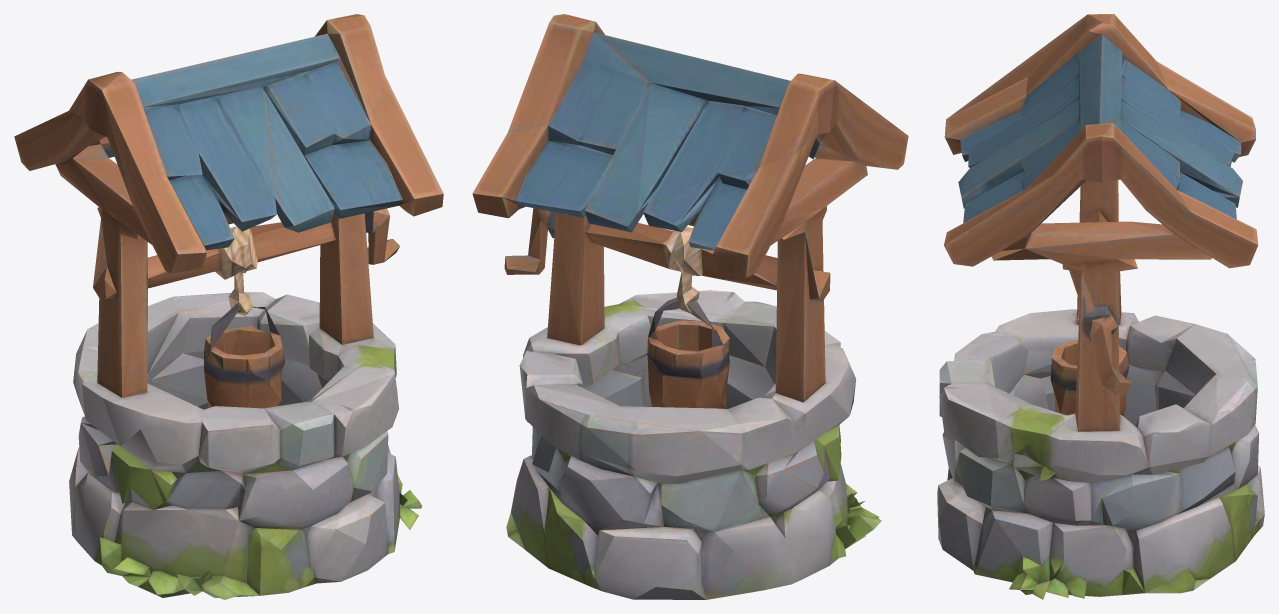
The model's file is deco-well.glb.
3 views of the same model, side by side, from view 1: azimuth 30°, elevation 25°; view 2: azimuth 150°, elevation 25°; view 3: azimuth 270°, elevation 25° (orthographic). The views are drawn at different scales.
Visible parts, largest first — view 1: deco-well-fit; view 2: deco-well-fit; view 3: deco-well-fit.
Part boxes in pixels (<box>): deco-well-fit: <box>14,14,443,599</box>; deco-well-fit: <box>472,14,908,599</box>; deco-well-fit: <box>937,14,1264,599</box>.
Bounding box in the file's own units: 1.58 × 2.2 × 1.43.
Materials: 1 (1 with a texture image).
